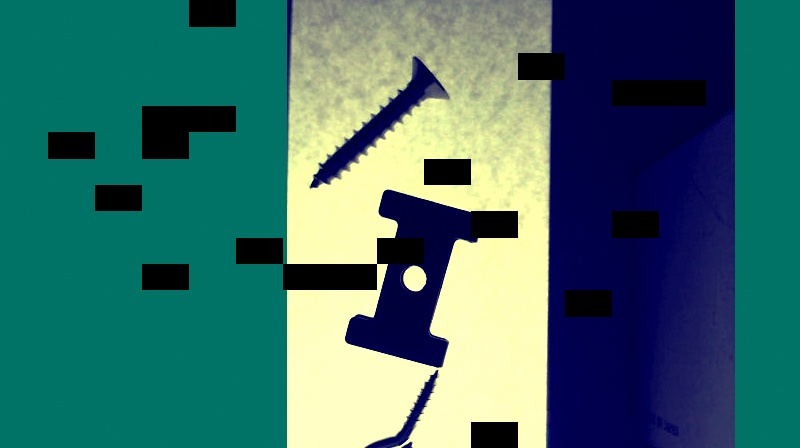O001: (349, 367, 442, 447)
O002: (343, 188, 486, 363)
S001: (309, 52, 450, 187)
